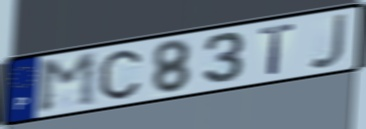3: (200, 31, 248, 86)
8: (149, 37, 193, 96)
C: (98, 48, 144, 101)
J: (306, 11, 349, 71)
M: (36, 50, 98, 116)
T: (257, 21, 297, 77)
